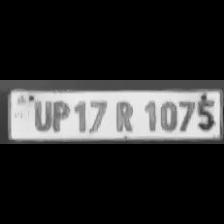0: (156, 97, 178, 130)
1: (136, 98, 158, 132), (70, 98, 86, 132)
5: (193, 97, 217, 131)
7: (83, 97, 109, 132), (176, 97, 192, 130)
P: (50, 98, 70, 132)
R: (110, 98, 136, 132)
U: (29, 97, 52, 130)
